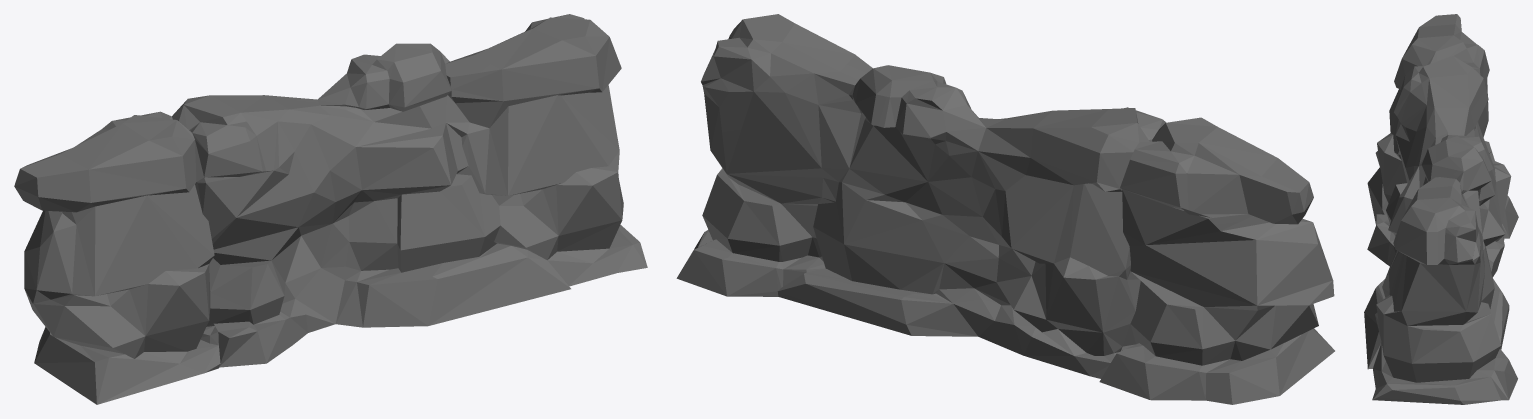
The model's file is rock__rockform_wall_long_medium.glb.
3 renders of one model, left to right at view 1: azimuth 30°, elevation 25°; view 2: azimuth 150°, elevation 25°; view 3: azimuth 270°, elevation 25°, orthographic. The views are drawn at different scales.
Visible parts, largest first — view 1: rockform.wall.long.medium; view 2: rockform.wall.long.medium; view 3: rockform.wall.long.medium.
Boxes of the visible parts, x1=… form: rockform.wall.long.medium: x1=14, y1=14, x2=647, y2=404; rockform.wall.long.medium: x1=676, y1=14, x2=1334, y2=404; rockform.wall.long.medium: x1=1364, y1=14, x2=1518, y2=404.
Size of the model in its own units: 42.26 by 15.35 by 11.8.
1 material, 1 textured.
